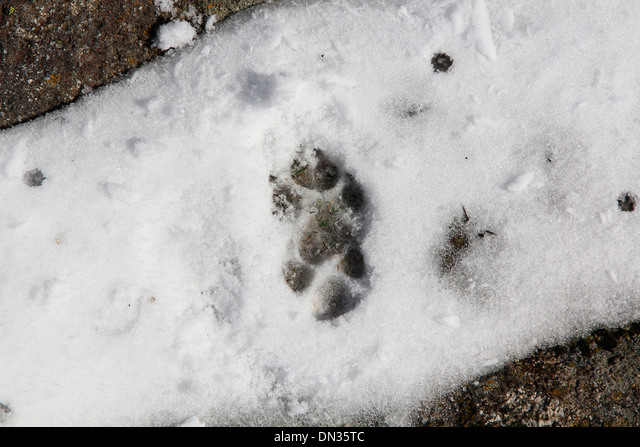fox: (253, 142, 379, 320)
